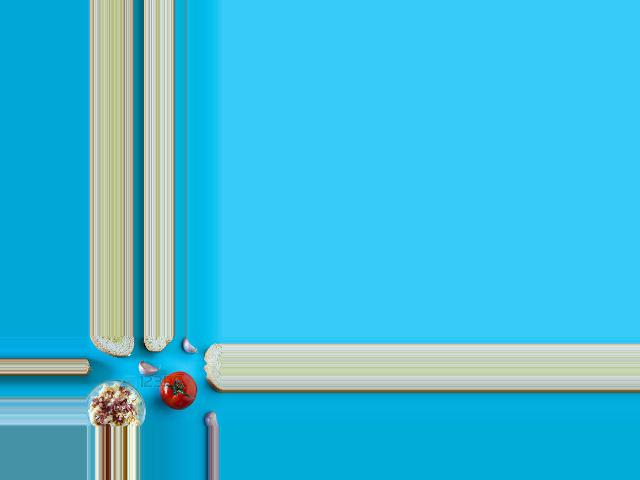tomato: (161, 371, 197, 410)
